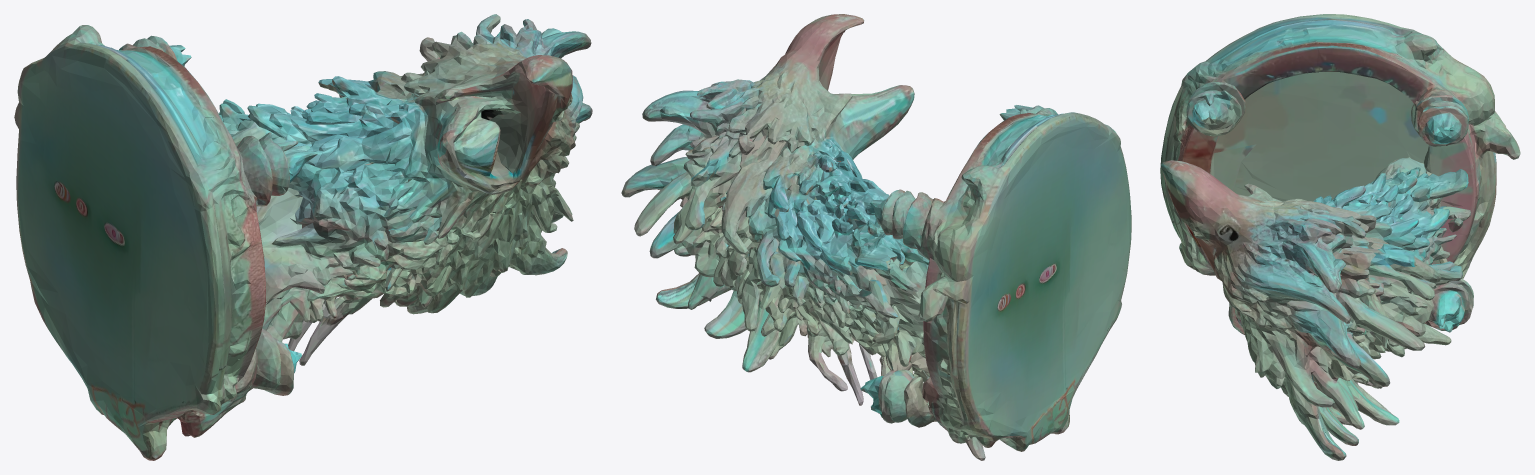
Rendered from phoenix-squawking-emerald.glb.
3 renders of one model, left to right at view 1: azimuth 30°, elevation 25°; view 2: azimuth 150°, elevation 25°; view 3: azimuth 270°, elevation 25°, orthographic. The views are drawn at different scales.
Parts seen in each view (by area): view 1: phoenix squawking emerald_textured.obj; view 2: phoenix squawking emerald_textured.obj; view 3: phoenix squawking emerald_textured.obj.
Part boxes in pixels (x1,y1,x2,y2): phoenix squawking emerald_textured.obj: [14, 14, 592, 460]; phoenix squawking emerald_textured.obj: [621, 14, 1131, 460]; phoenix squawking emerald_textured.obj: [1160, 14, 1520, 460].
Size of the model in its own units: 1.99 by 1.49 by 1.52.
1 material, 1 textured.
